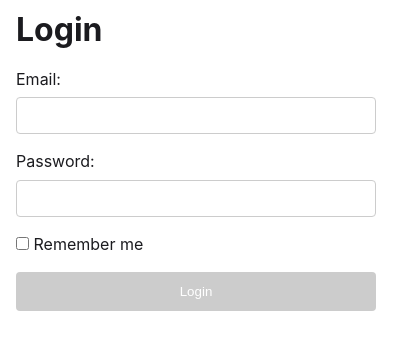
Test: LoginFormComponent › Password Validation › should show error when password is too short
In the password field with test id "password-input": (196, 198) [16,180,376,217], type "123"
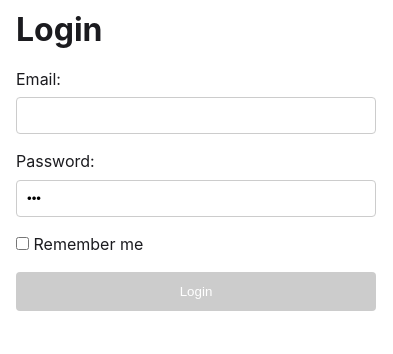
Leave the password field with test id "password-input", box [16,180,376,217]
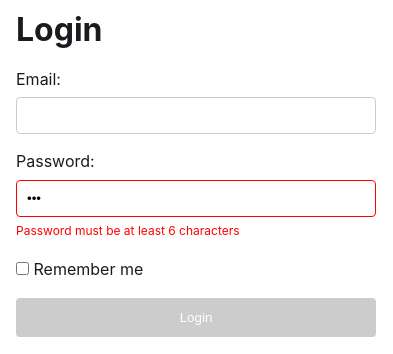
Now the text with test id "password-error" shows "at least 6 characters", box [16,223,240,238]
